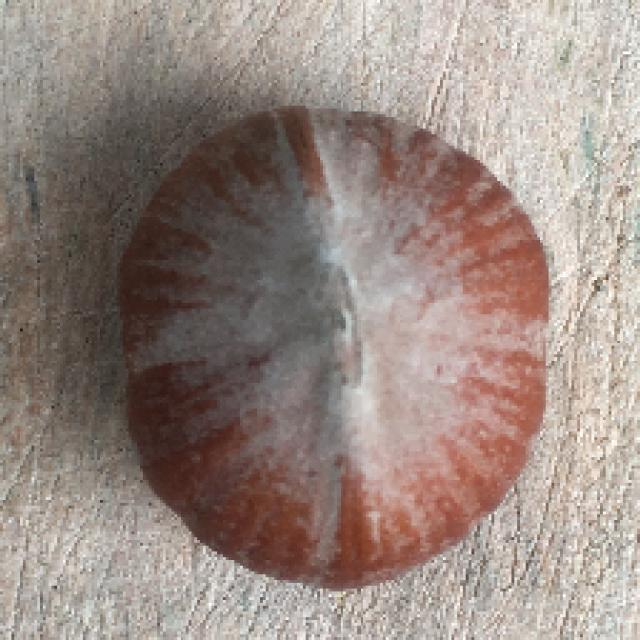qualityHazelnut: (101, 97, 567, 594)
